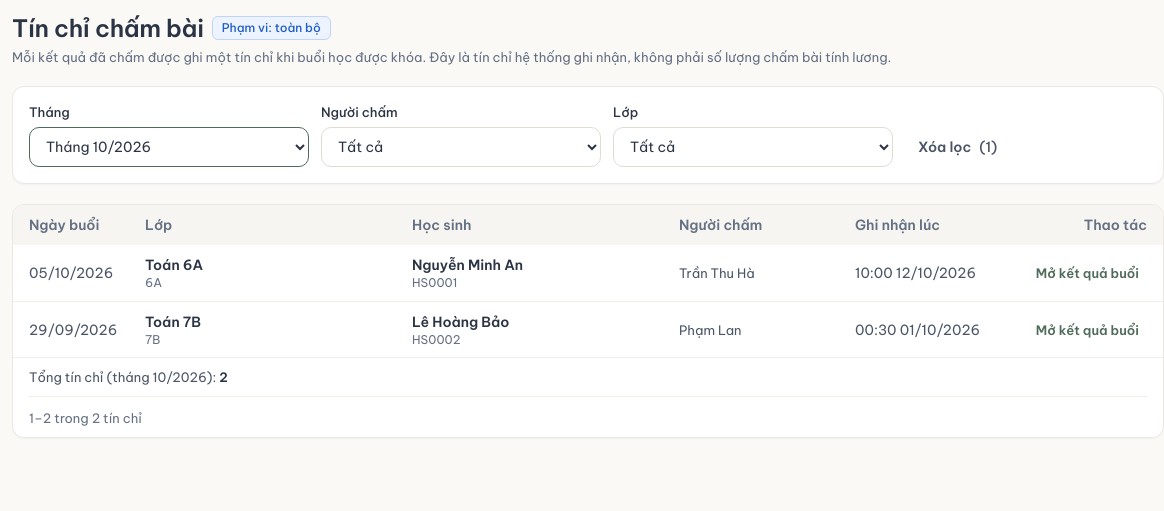
Scenario: GradingCreditListPage total › is exact for a month that starts after the oldest loaded credit, and a lower bound otherwise
expect the element with test id "grading-credit-total" reads "Tổng tín chỉ (tháng 10/2026): 2": met, box 29,368 -> 1147,397
Select "Tháng 09/2026" in the dropdown with test id "desktop-credit-month". click: {"x": 169, "y": 147}
box: 29,127 -> 309,167
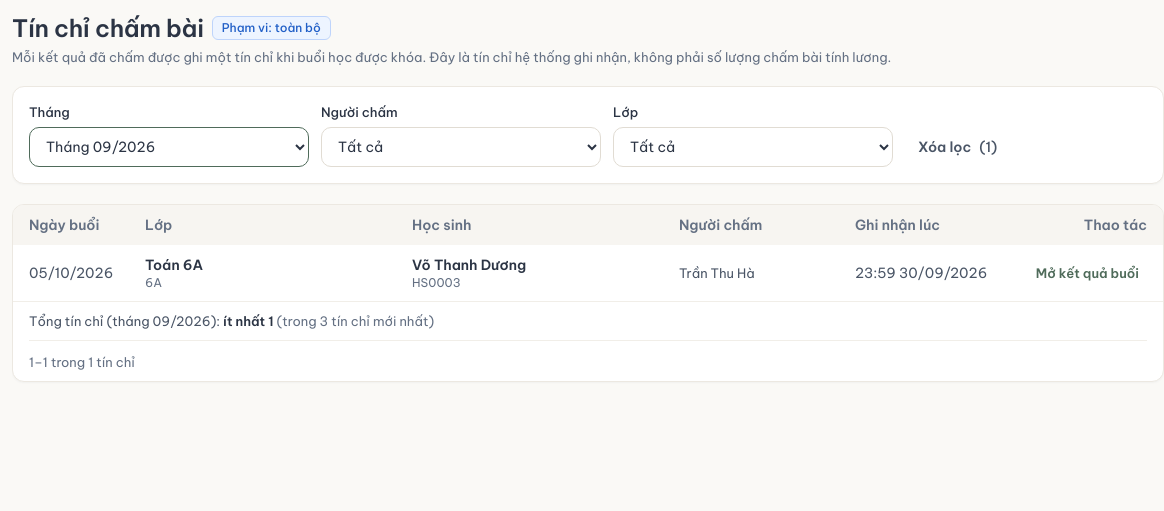
expect the element with test id "grading-credit-total" reads "Tổng tín chỉ (tháng 09/2026): ít nhất 1 (trong 3 tín chỉ mới nhất)": met, box 29,312 -> 1147,341
Select "Tất cả" in the dropdown with test id "desktop-credit-month". click: {"x": 169, "y": 147}
box: 29,127 -> 309,167
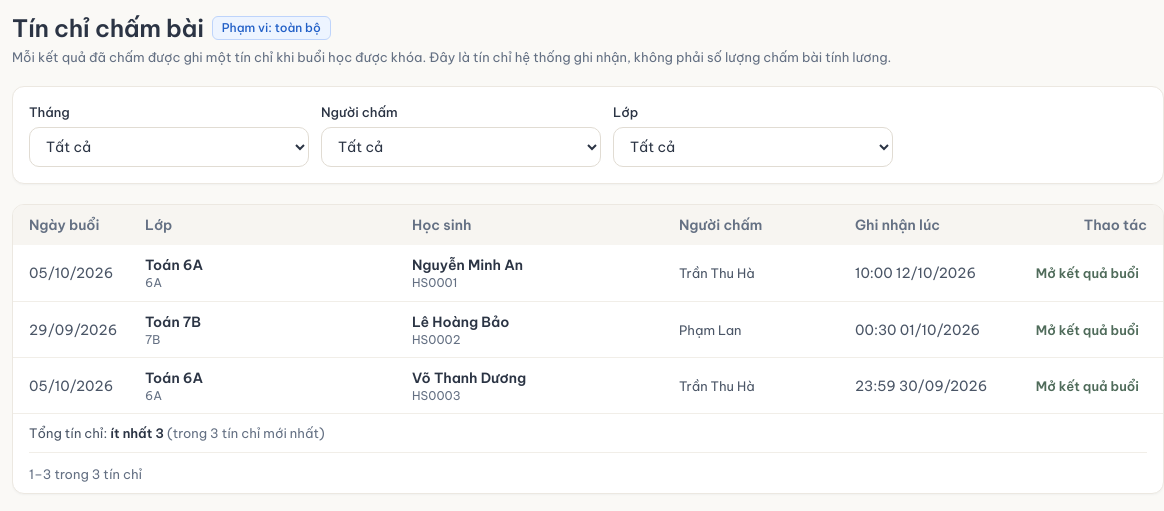
expect the element with test id "grading-credit-total" reads "Tổng tín chỉ: ít nhất 3 (trong 3 tín chỉ mới nhất)": met, box 29,424 -> 1147,453
